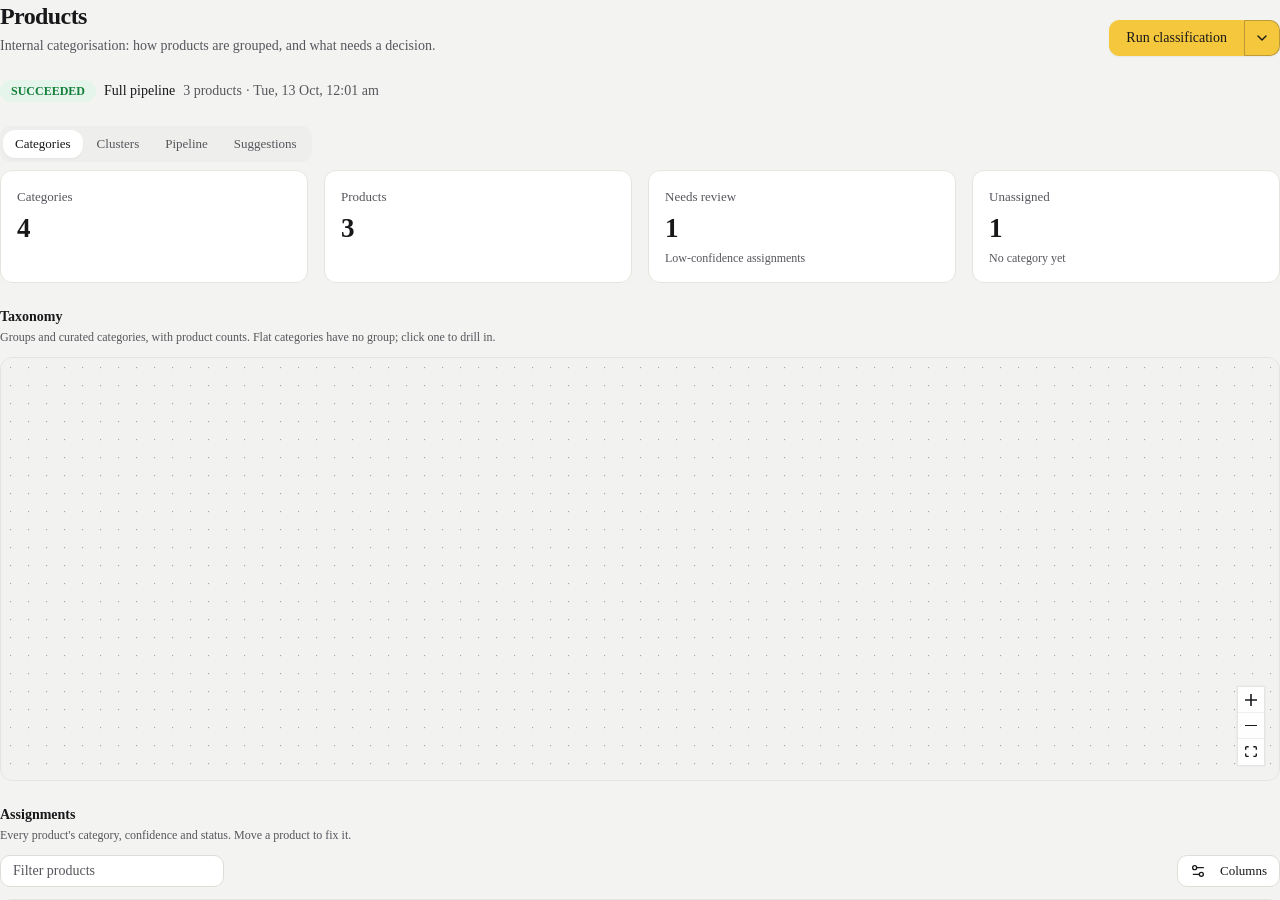
ProductsPage › renders the three tabs with their visualisation views
Expected: the tab "Categories" is shown, x1=3 y1=130 x2=83 y2=158
Expected: the tab "Pipeline" is shown, x1=153 y1=130 x2=220 y2=158
Radix Tabs activate on mouse-down, not click.
Press the mouse on the tab "Clusters" at (118, 144), box x1=85 y1=130 x2=151 y2=158
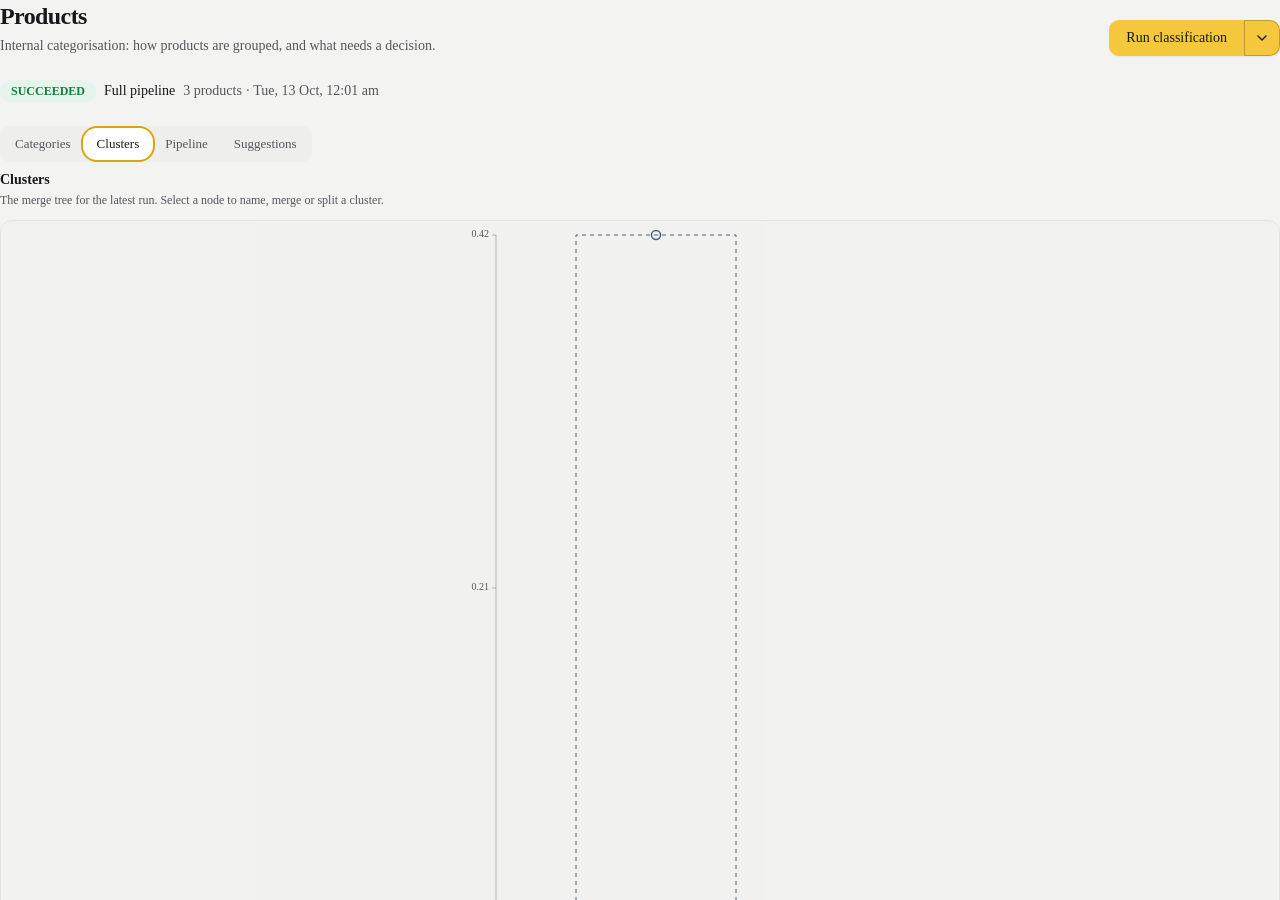
Press the mouse on the tab "Pipeline" at (186, 144), box x1=153 y1=130 x2=220 y2=158
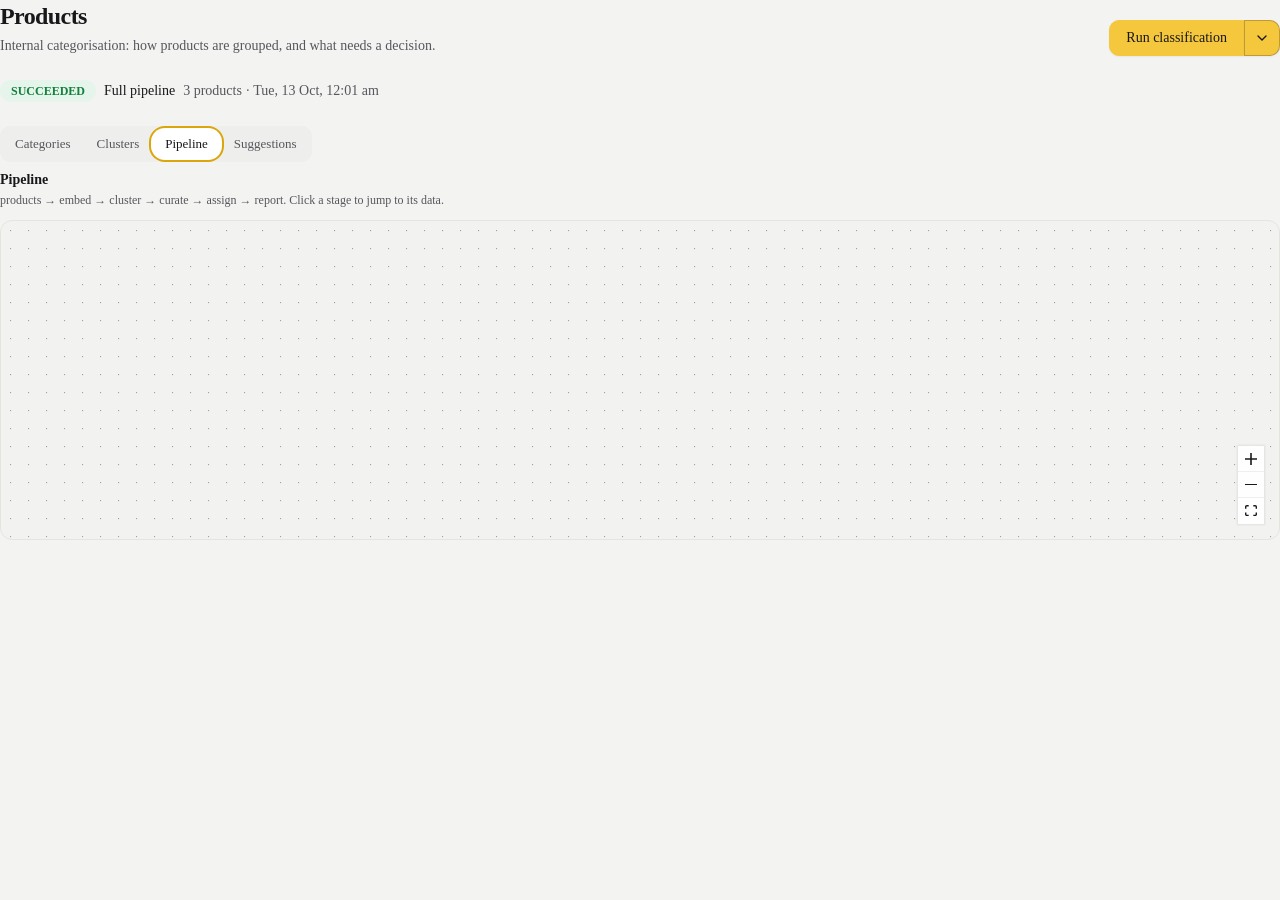
Expected: the element named "pipeline" is shown, x1=0 y1=220 x2=1279 y2=540
